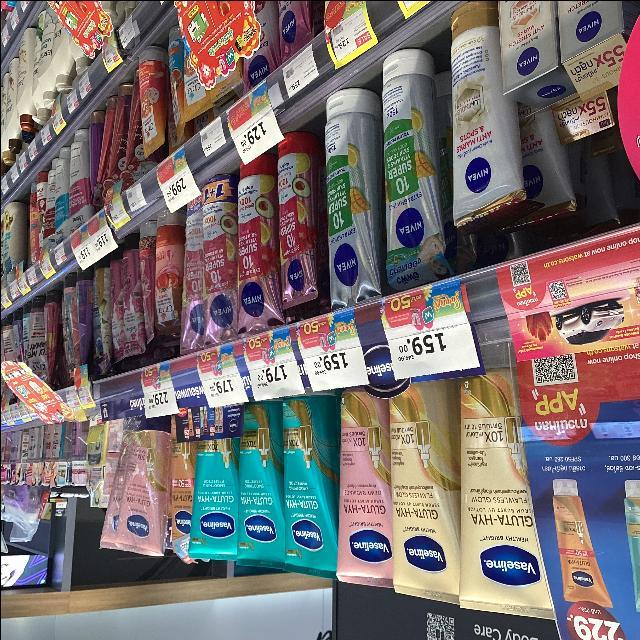Squeeze Tube: (69, 0, 567, 396), (77, 343, 589, 635)
